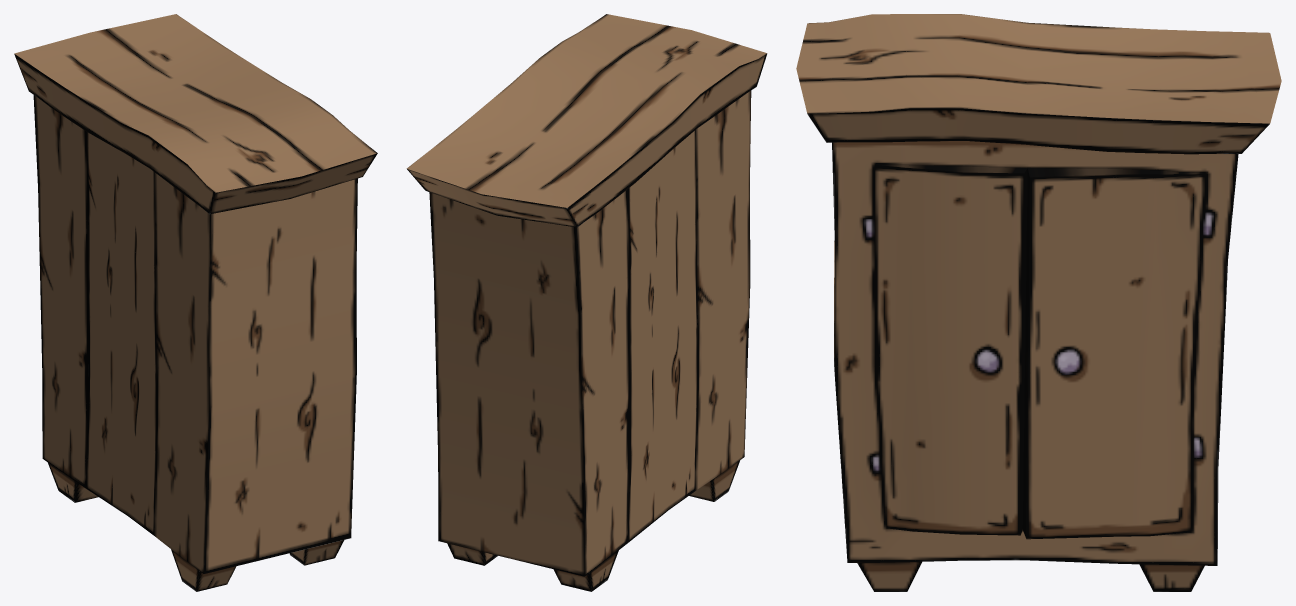
File: szafa1_zamknięta.fbx
3 views of the same model, side by side, from view 1: azimuth 30°, elevation 25°; view 2: azimuth 150°, elevation 25°; view 3: azimuth 270°, elevation 25° (orthographic). The views are drawn at different scales.
Parts seen in each view (by area): view 1: szafa1 zamknięta; view 2: szafa1 zamknięta; view 3: szafa1 zamknięta.
Part boxes in pixels (x1=…): szafa1 zamknięta: x1=14, y1=14, x2=377, y2=591; szafa1 zamknięta: x1=406, y1=14, x2=767, y2=591; szafa1 zamknięta: x1=796, y1=14, x2=1281, y2=591.
Bounding box in the file's own units: 97.24 × 235 × 209.
1 material, 1 textured.
